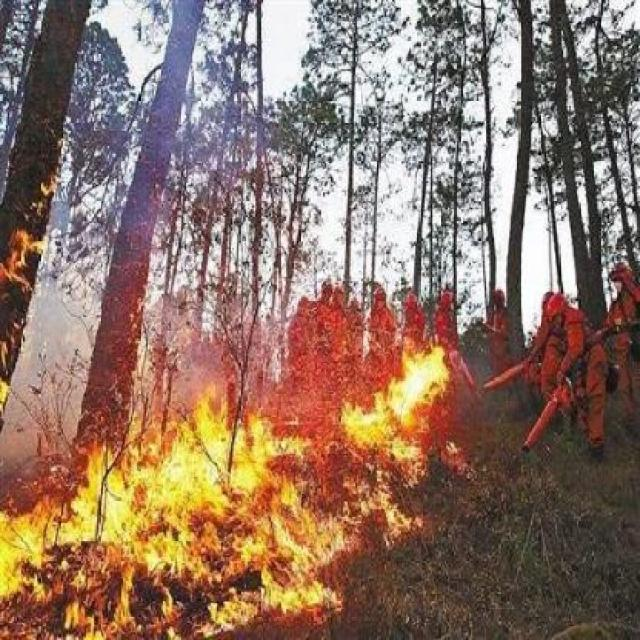Fire: (0, 278, 478, 638)
